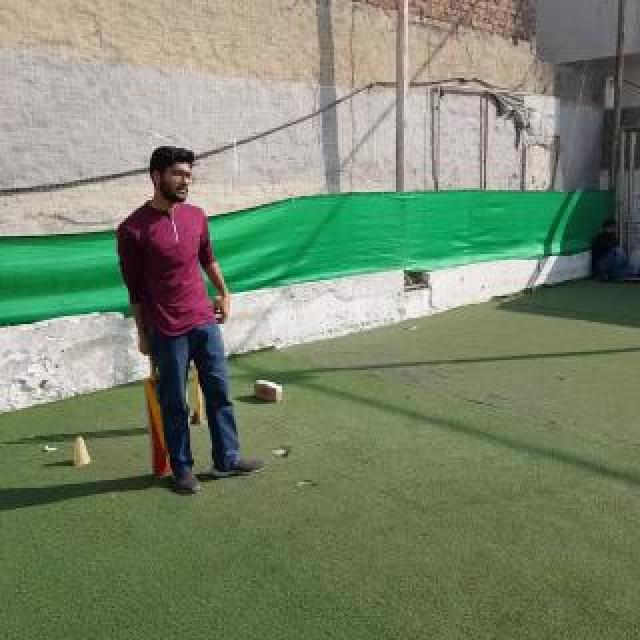bat: (144, 342, 172, 476)
